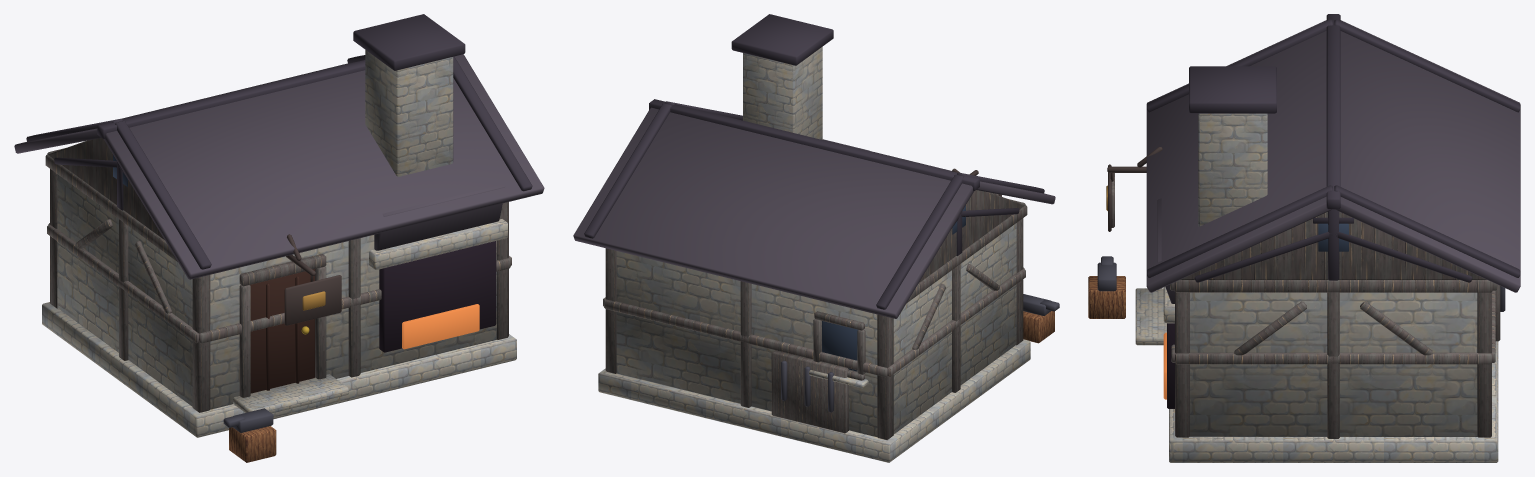
File: smithy.gltf
3 renders of one model, left to right at view 1: azimuth 30°, elevation 25°; view 2: azimuth 150°, elevation 25°; view 3: azimuth 270°, elevation 25°, orthographic. The views are drawn at different scales.
Visible parts, largest first — view 1: smithy; view 2: smithy; view 3: smithy.
Part boxes in pixels (x1,y1,x2,y2): smithy: [14, 14, 544, 462]; smithy: [573, 14, 1059, 462]; smithy: [1088, 14, 1520, 462].
Size of the model in its own units: 6.98 by 5.95 by 6.87.
Materials: 5 (5 with a texture image).
